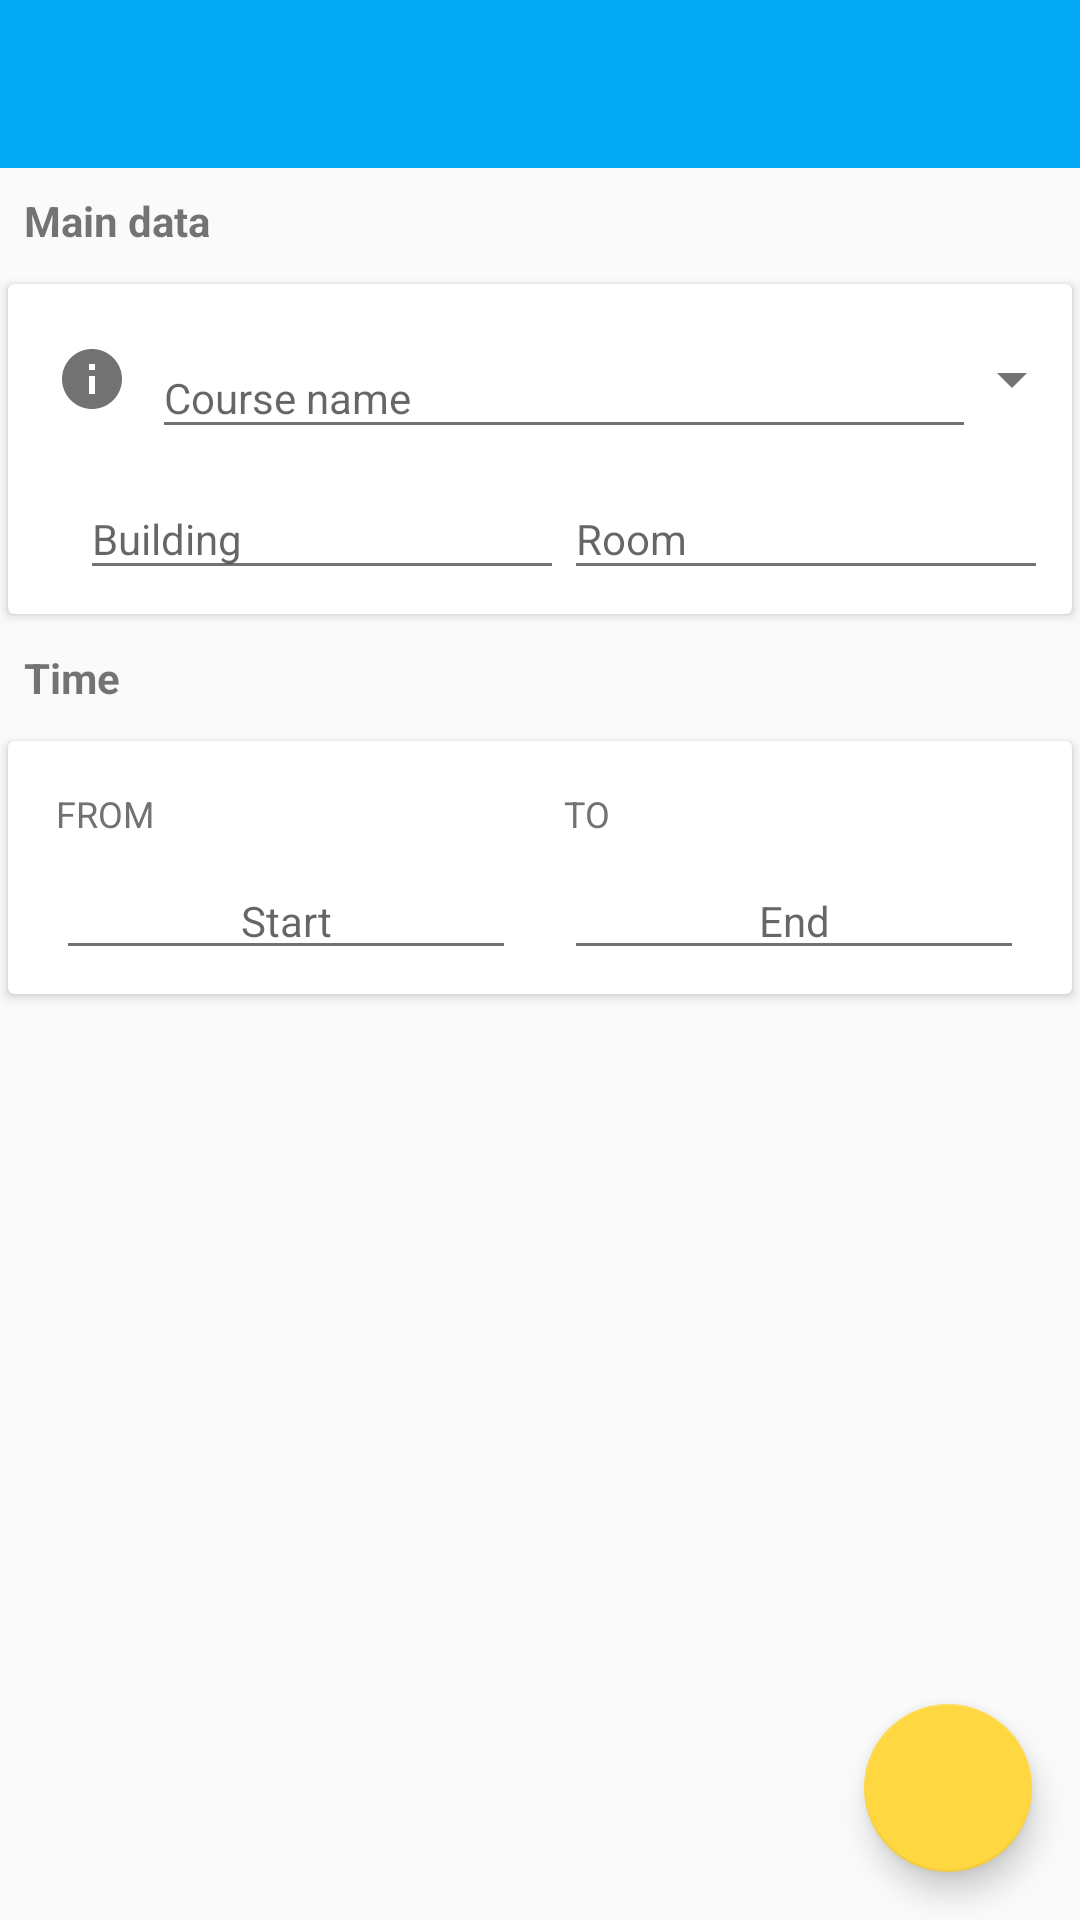

Screen size 1080 x 1920. Icon name, then its box in pixels as (x1=x1, y1=y1, x2=x2, y2=y2):
Choose lesson name: (x1=997, y1=373, x2=1027, y2=388)
